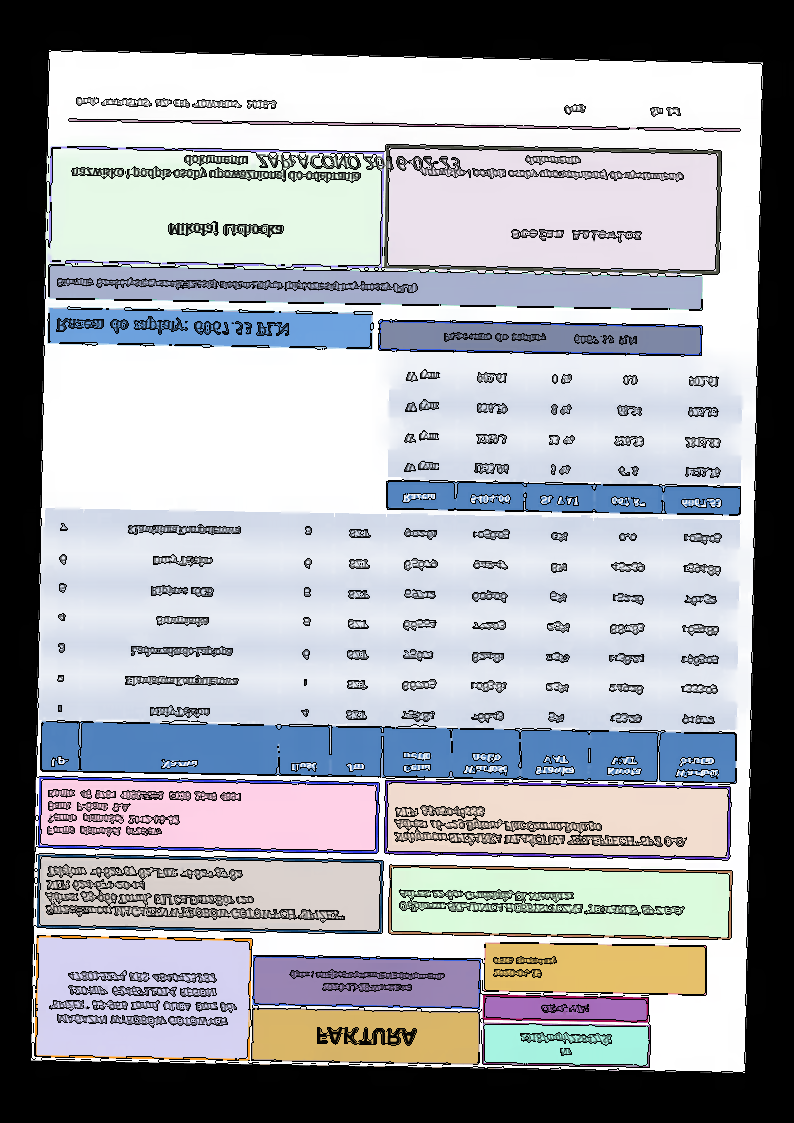Table: (39, 505, 743, 786), (384, 357, 743, 517)
TextBox: (43, 861, 348, 927), (392, 802, 691, 852), (46, 967, 240, 1031), (45, 786, 244, 842), (395, 887, 685, 920), (68, 151, 360, 183), (420, 152, 686, 186), (55, 274, 418, 298), (53, 313, 292, 340), (256, 147, 465, 175), (286, 966, 447, 997), (73, 94, 278, 114), (441, 329, 639, 347), (517, 1029, 613, 1059), (166, 219, 286, 243), (509, 225, 644, 245), (313, 1024, 419, 1048), (490, 950, 559, 982), (561, 104, 684, 120), (538, 1000, 592, 1017)
